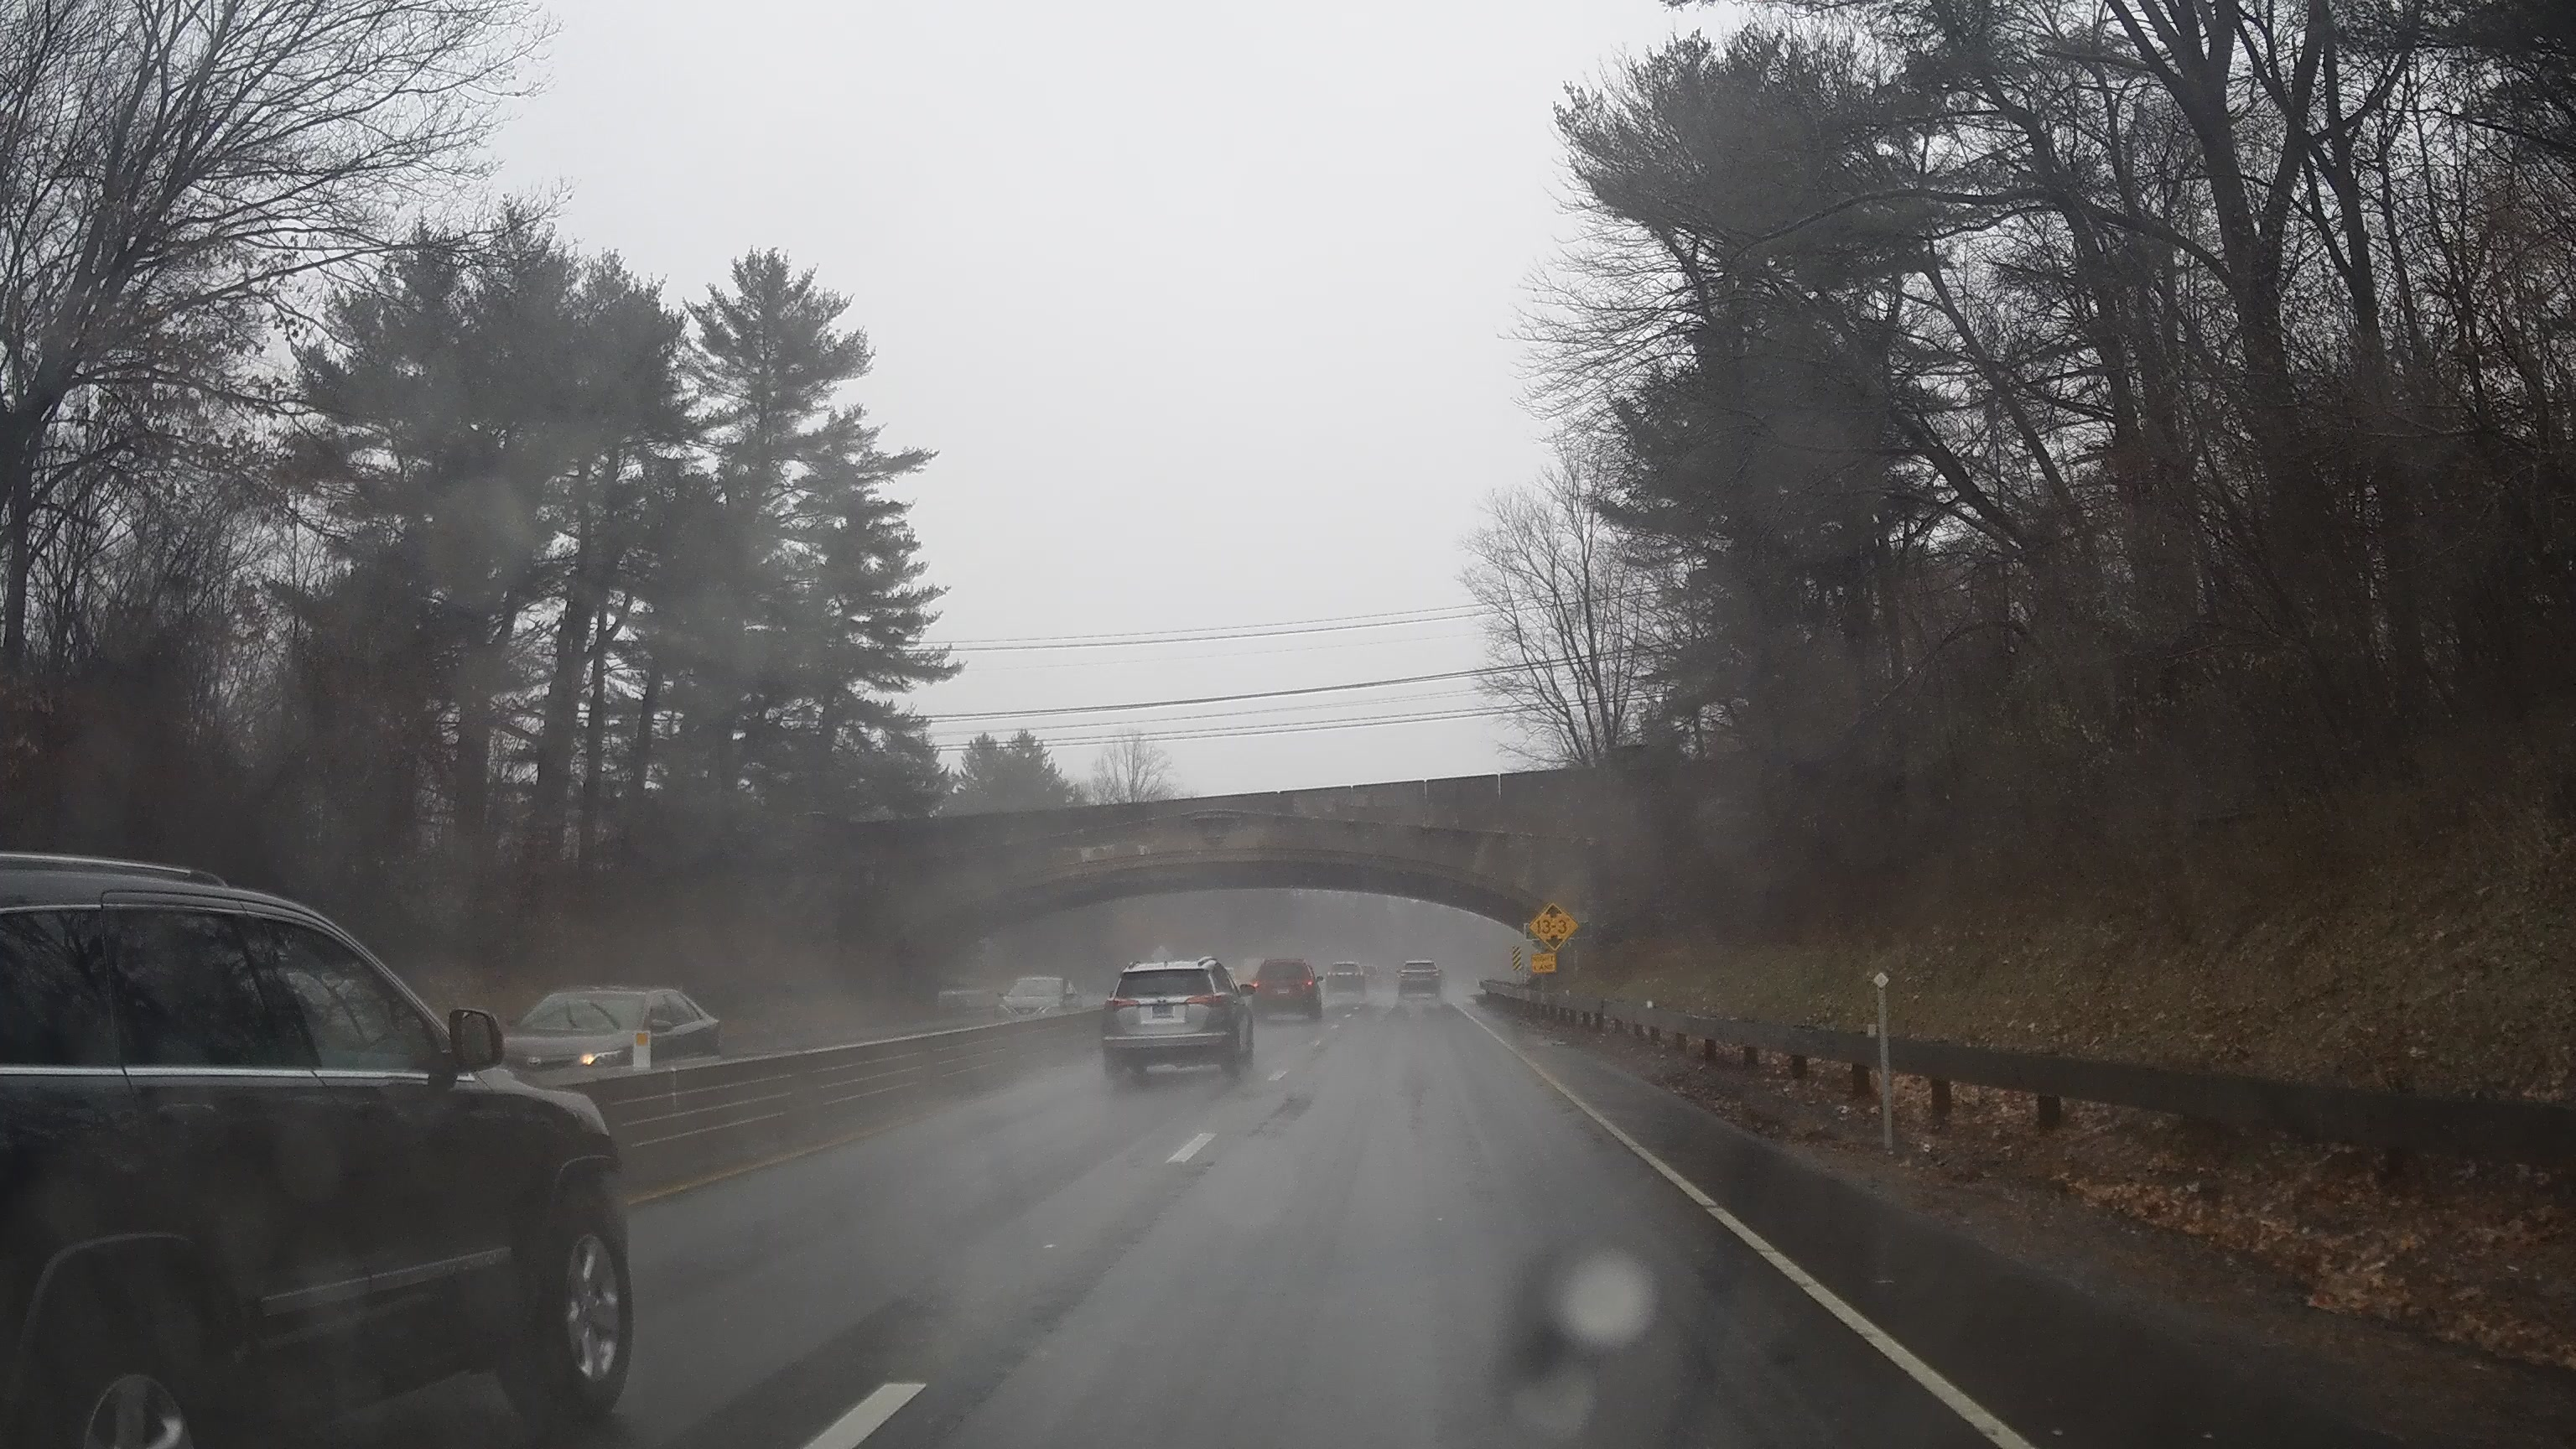low-clearance-sign: (1529, 902, 1580, 952)
